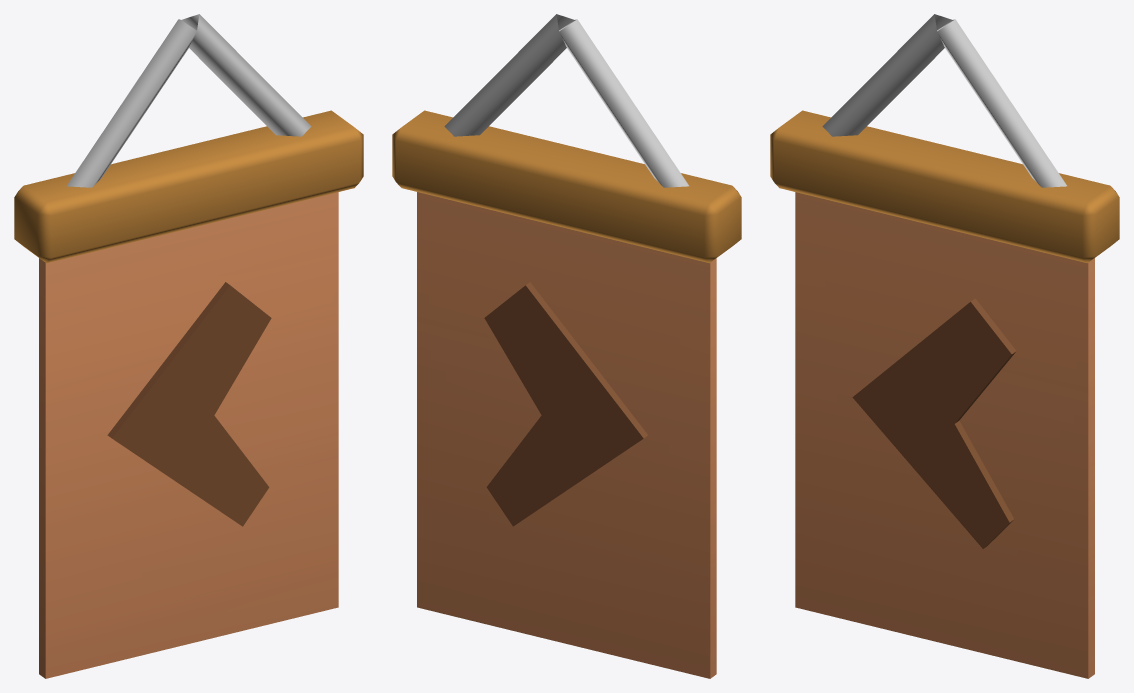
The model's file is drone_indicator_003.fbx.
3 views of the same model, side by side, from view 1: azimuth 30°, elevation 25°; view 2: azimuth 150°, elevation 25°; view 3: azimuth 330°, elevation 25° (orthographic).
Visible parts, largest first — view 1: drone_indicator_003; view 2: drone_indicator_003; view 3: drone_indicator_003.
Part boxes in pixels (bbox=[...]): drone_indicator_003: bbox=[14, 14, 363, 678]; drone_indicator_003: bbox=[392, 14, 741, 678]; drone_indicator_003: bbox=[770, 14, 1119, 678].
Size of the model in its own units: 163 by 29.12 by 299.
